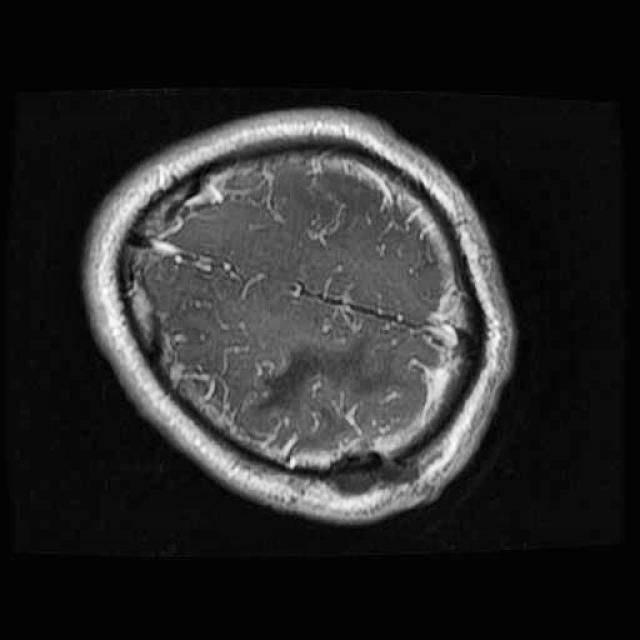Tumor: (305, 436, 434, 506)
